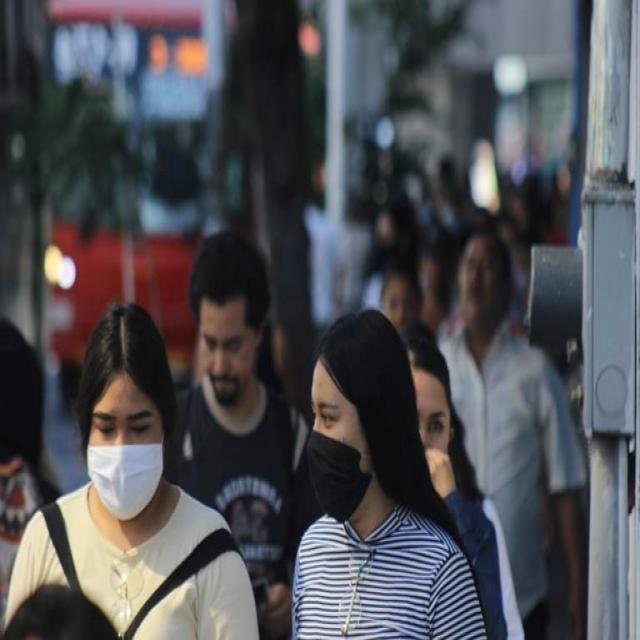adult: (0, 298, 261, 640), (288, 304, 491, 640)
